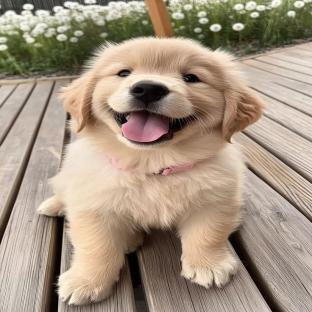Animal: (37, 37, 264, 305)
